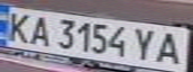1: (72, 19, 93, 53)
3: (51, 16, 78, 51)
4: (106, 24, 130, 58)
5: (90, 21, 112, 55)
A: (151, 29, 187, 65), (24, 14, 54, 47)
K: (0, 9, 36, 44)
Y: (130, 25, 160, 62)
